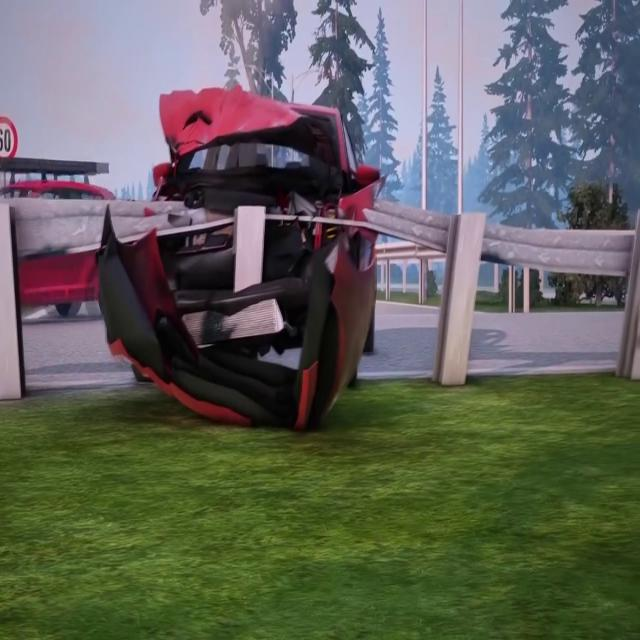accident: (89, 73, 400, 441)
